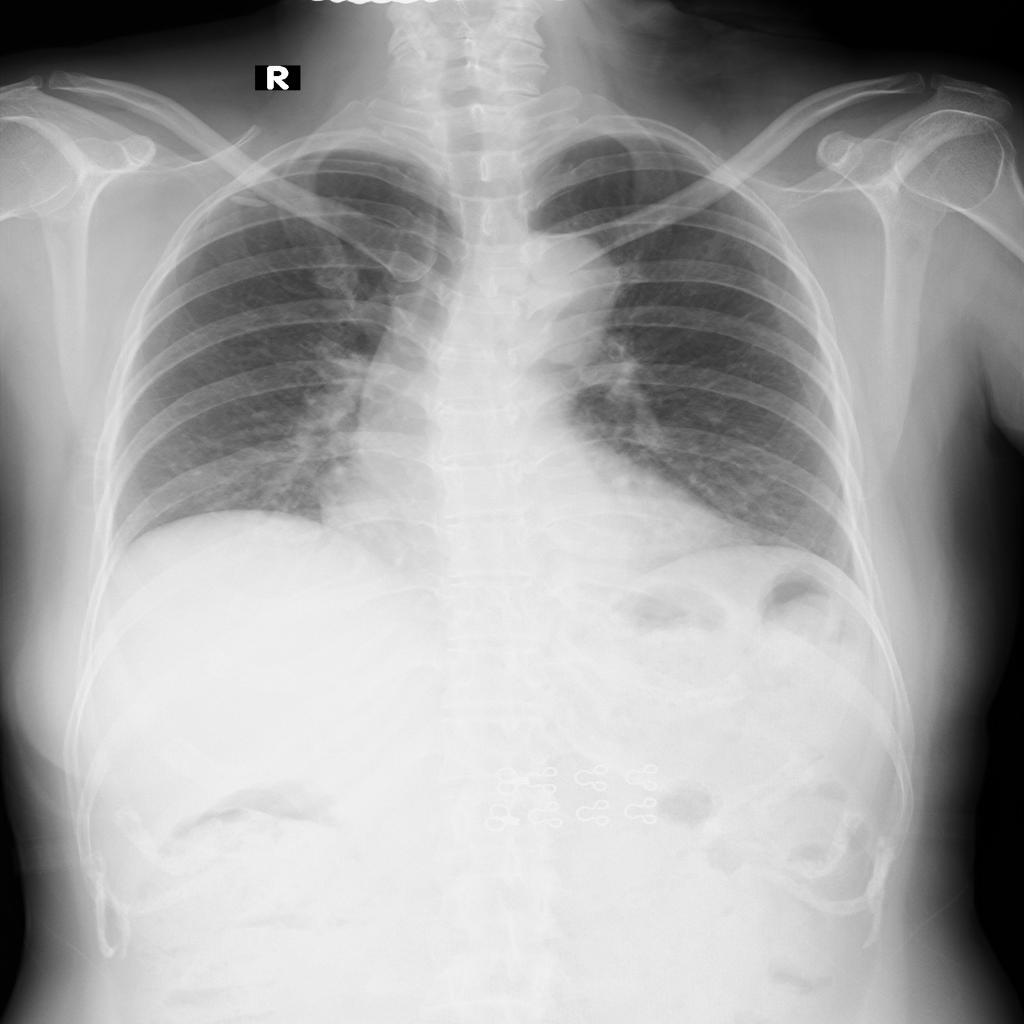Nodule: (221, 193, 268, 211)
